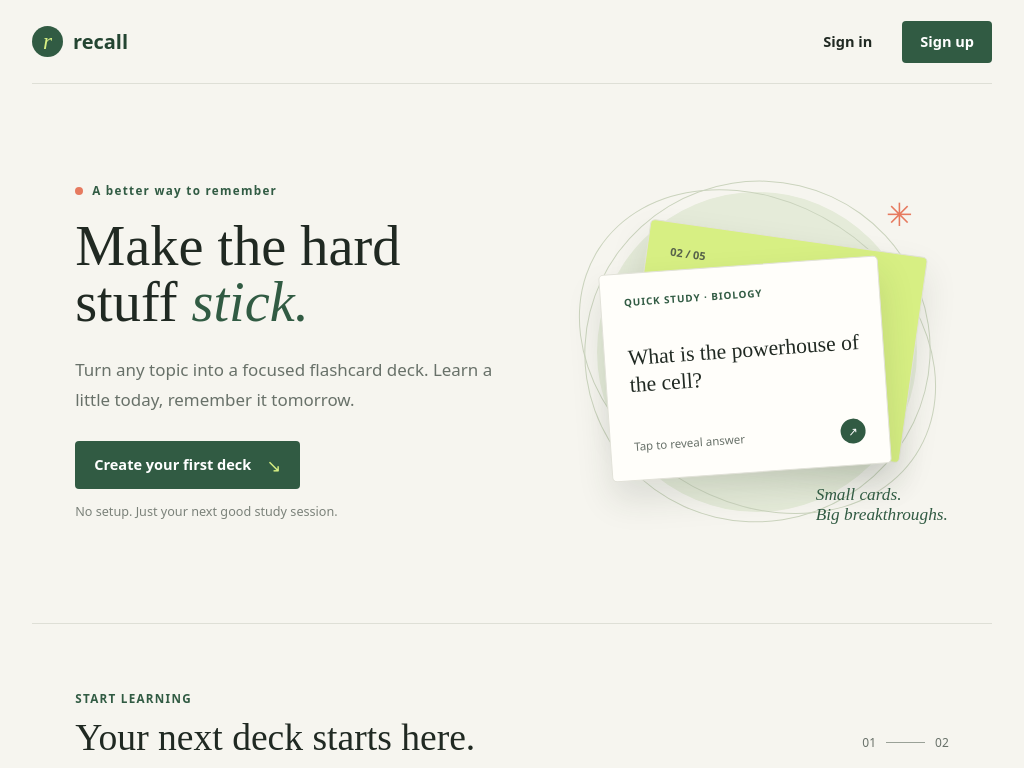
Test: App authentication › switches between sign in and sign up, and closes via the close button
What coordinates should you click on to do the following:
click the button "Sign in"
I would click on:
 (848, 42)
Its box is top-left (805, 20), bottom-right (890, 62).
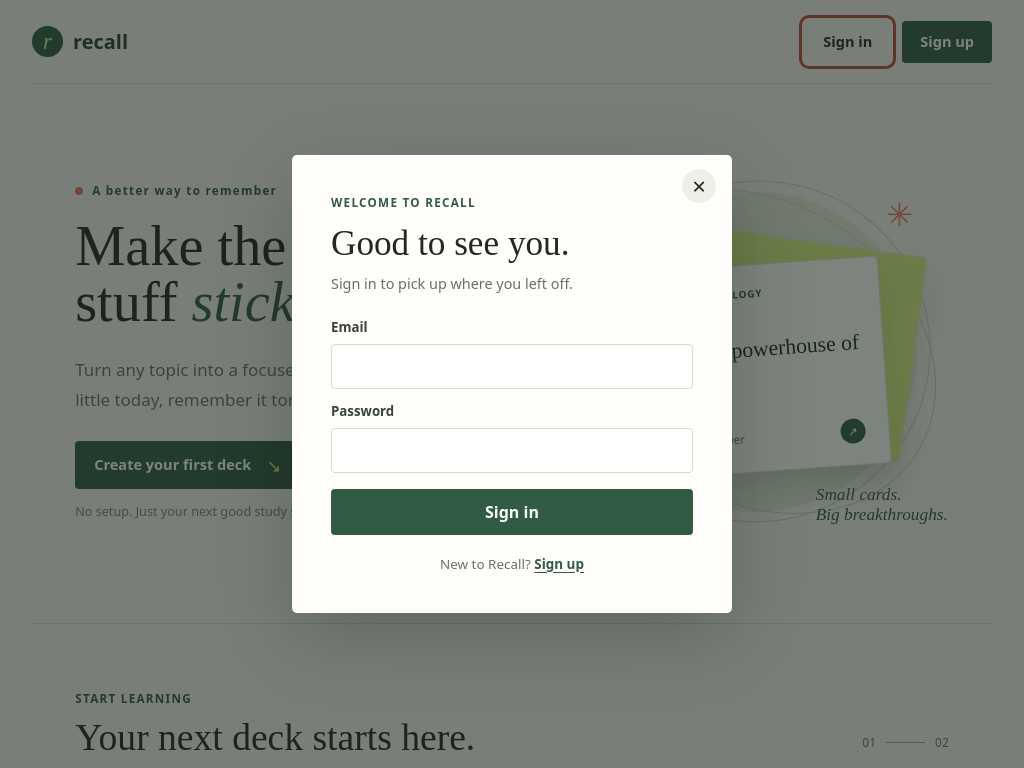
expect the heading "Good to see you." is shown: met, box top-left (331, 224), bottom-right (570, 263)
What coordinates should you click on to do the following:
click the button "Sign up"
I would click on:
 (559, 564)
Its box is top-left (534, 554), bottom-right (584, 574).
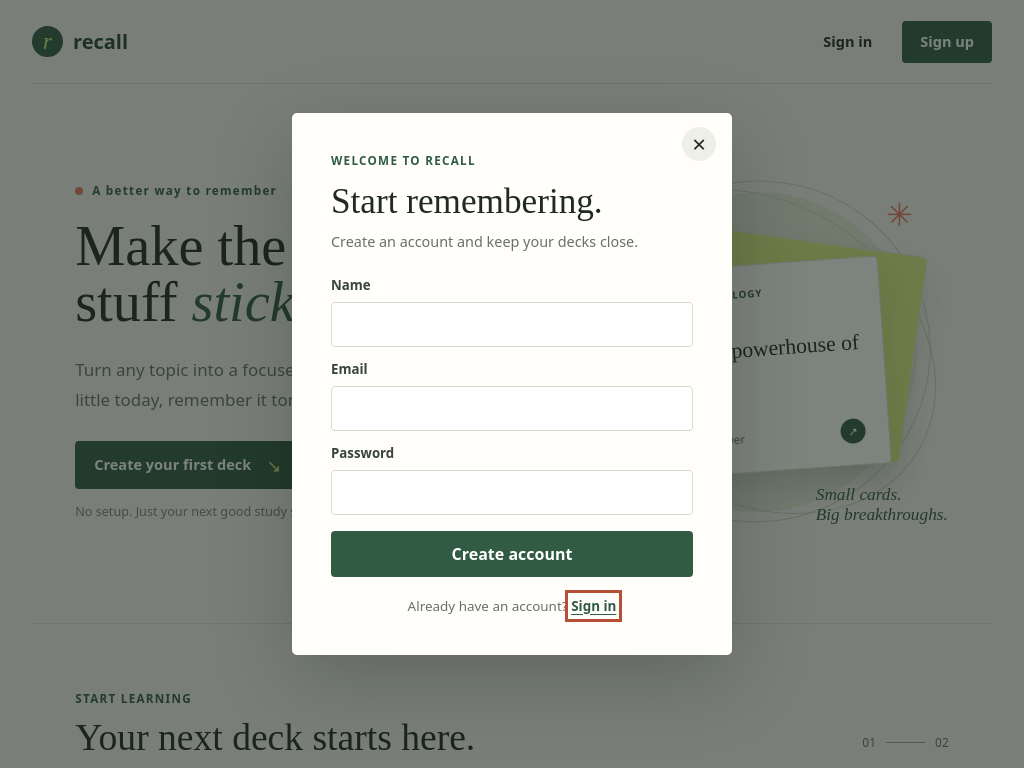
expect the heading "Start remembering." is shown: met, box top-left (331, 182), bottom-right (603, 221)
What coordinates should you click on to do the following:
click the button named "Close"
I would click on:
 (699, 144)
Its box is top-left (682, 127), bottom-right (716, 161).
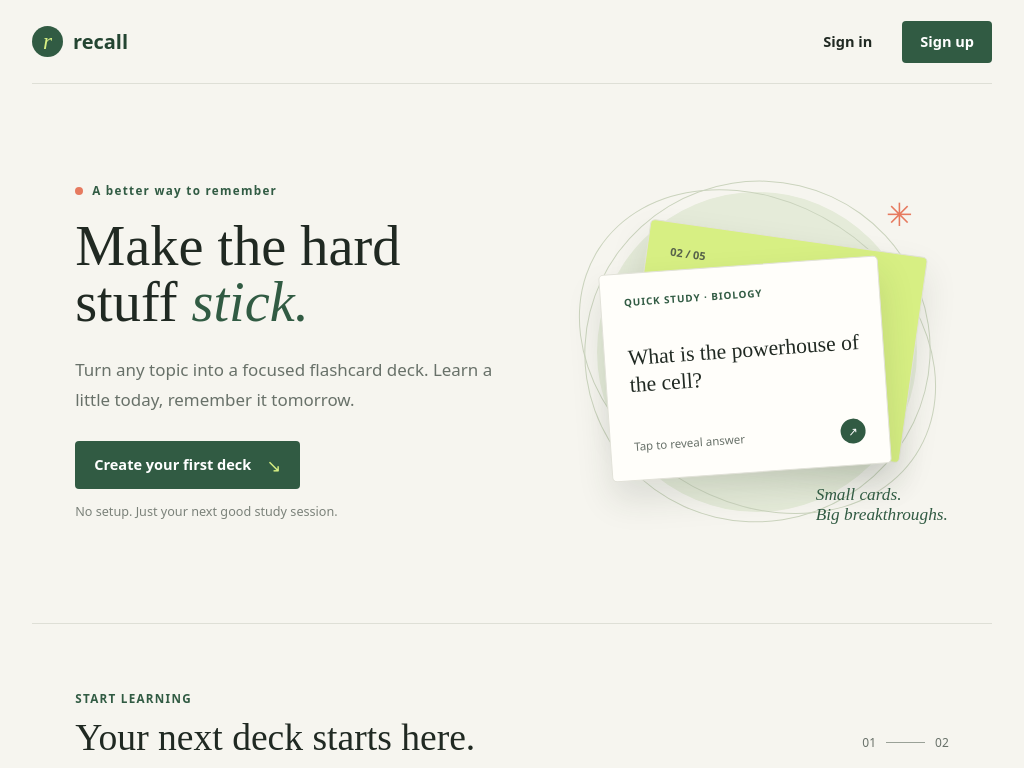
expect the dialog is gone: met
